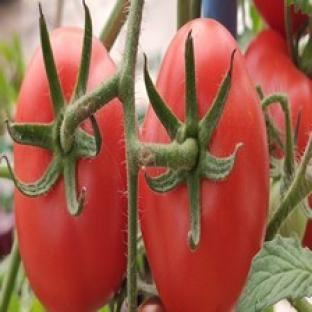Tomato: (140, 51, 268, 311), (14, 99, 126, 311), (246, 30, 311, 154), (138, 297, 165, 311)
